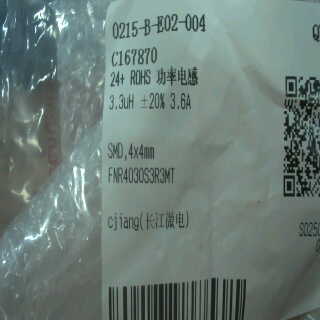3.3uH: (103, 88, 136, 118)
